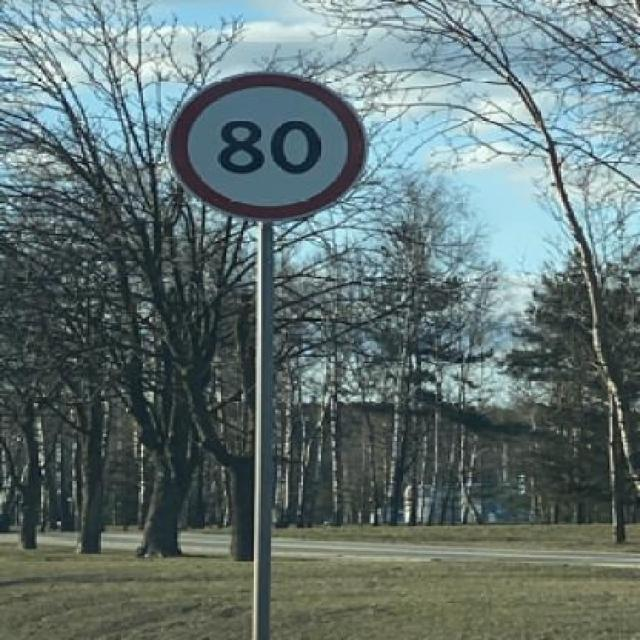forb_speed_over_80: (167, 71, 365, 215)
